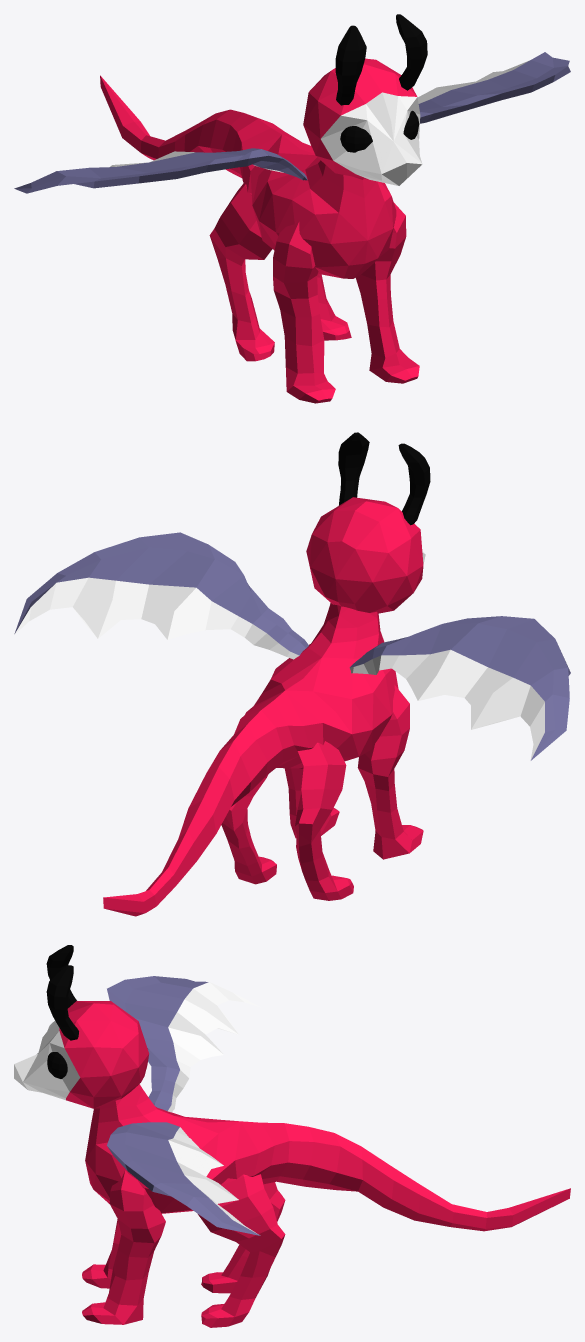
The model's file is ImprovedDragonSmall.fbx.
3 renders of one model, top to bottom at view 1: azimuth 30°, elevation 25°; view 2: azimuth 150°, elevation 25°; view 3: azimuth 270°, elevation 25°, orthographic. The views are drawn at different scales.
Visible parts, largest first — view 1: Body, Head, RightFrontLeg, RightBackLeg, RightWing, LeftFrontLeg, LeftWing, LeftAntenna, RightAntenna, LeftBackLeg, RightEye; view 2: Body, LeftWing, RightWing, Head, RightBackLeg, RightFrontLeg, LeftBackLeg, RightAntenna, LeftAntenna, LeftFrontLeg; view 3: Body, Head, RightWing, LeftWing, LeftFrontLeg, LeftBackLeg, RightBackLeg, RightAntenna, RightFrontLeg, LeftAntenna.
Boxes of the visible parts, x1,y1,x2,y2 form: Body: [100, 75, 396, 278]; Head: [303, 58, 422, 185]; RightFrontLeg: [273, 221, 335, 403]; RightBackLeg: [209, 183, 274, 361]; RightWing: [14, 148, 307, 193]; LeftFrontLeg: [356, 203, 419, 383]; LeftWing: [417, 52, 570, 123]; LeftAntenna: [335, 25, 366, 105]; RightAntenna: [396, 14, 427, 90]; LeftBackLeg: [317, 274, 351, 340]; RightEye: [340, 126, 372, 152]; Body: [103, 603, 398, 916]; LeftWing: [14, 532, 308, 659]; RightWing: [349, 616, 570, 760]; Head: [306, 497, 425, 613]; RightBackLeg: [295, 741, 353, 900]; RightFrontLeg: [357, 685, 423, 859]; LeftBackLeg: [221, 774, 276, 884]; RightAntenna: [338, 432, 369, 505]; LeftAntenna: [398, 443, 430, 525]; LeftFrontLeg: [284, 767, 339, 838]; Body: [85, 1084, 570, 1231]; Head: [14, 1001, 149, 1108]; RightWing: [107, 976, 260, 1112]; LeftWing: [107, 1122, 260, 1235]; LeftFrontLeg: [82, 1170, 165, 1324]; LeftBackLeg: [198, 1174, 285, 1327]; RightBackLeg: [201, 1182, 285, 1293]; RightAntenna: [46, 965, 78, 1040]; RightFrontLeg: [82, 1219, 121, 1288]; LeftAntenna: [46, 945, 76, 1008].
Size of the model in its own units: 1018 by 693 by 1003.
